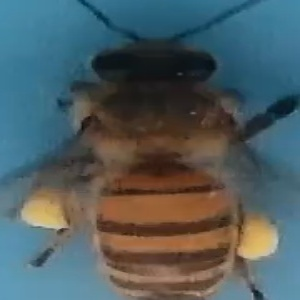bee: (22, 33, 283, 300)
